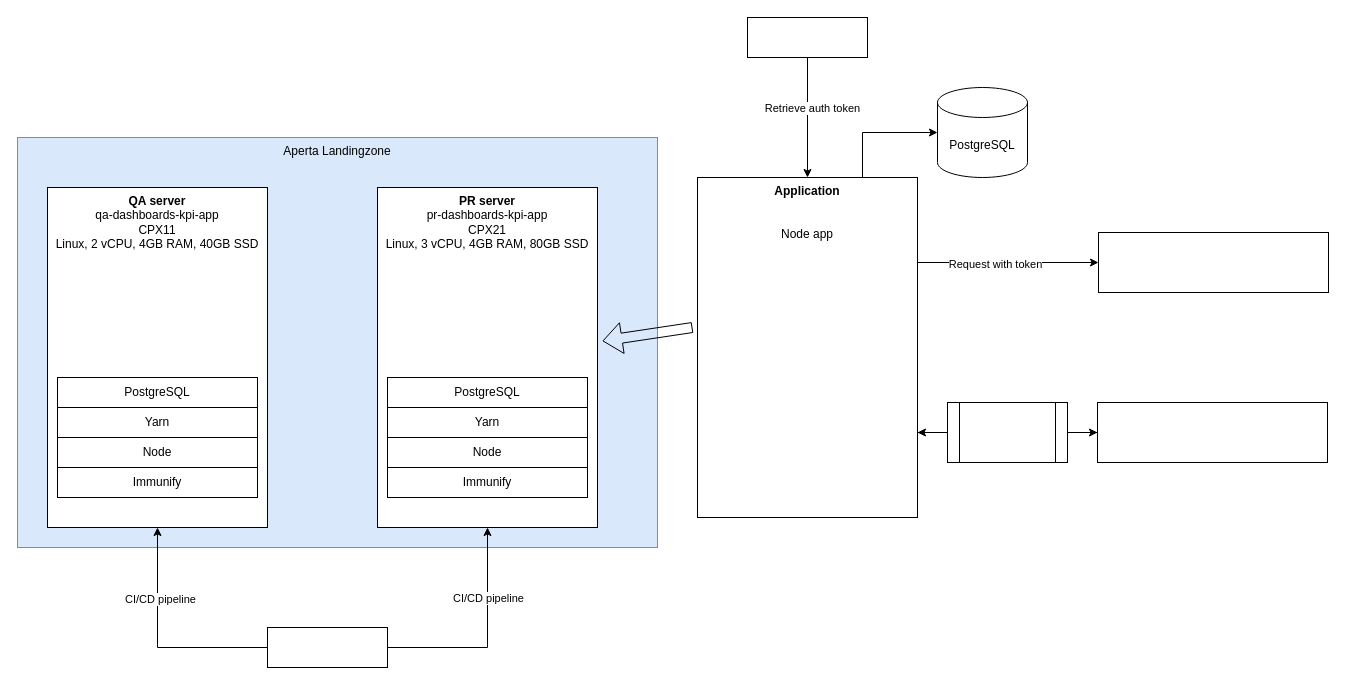
Image size: 1346x685. Some labels were removed from this diagram. The shapes that lost their labels are listed below. From the top down, each one's centre as x and y in pixels, then its label:
At (x=807, y=37): "Dazzle Vault KMS".
At (x=1213, y=262): "External data sources Google Analytics, ...".
At (x=1007, y=432): "OAuth".
At (x=1212, y=432): "Flutter consumer".
At (x=327, y=647): "Gitlab SCM".
